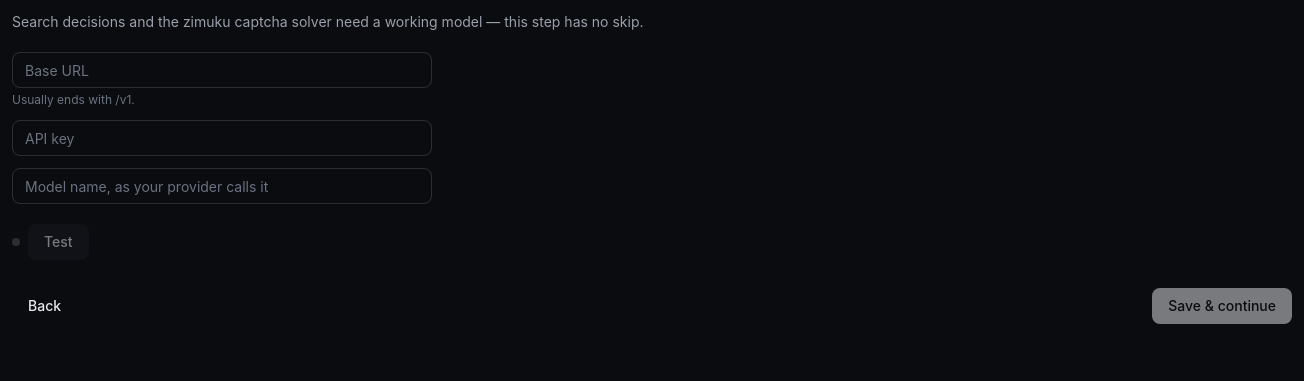
Test case: StepLlm › validate 端点自身挂了（reject）→ 第四态文案，不回显异常串（spec §7/§8）
Type "https://api.example.com/v1" into the field labelled "Base URL".
click(222, 70); type("https://api.example.com/v1")  # box [12,52,432,88]
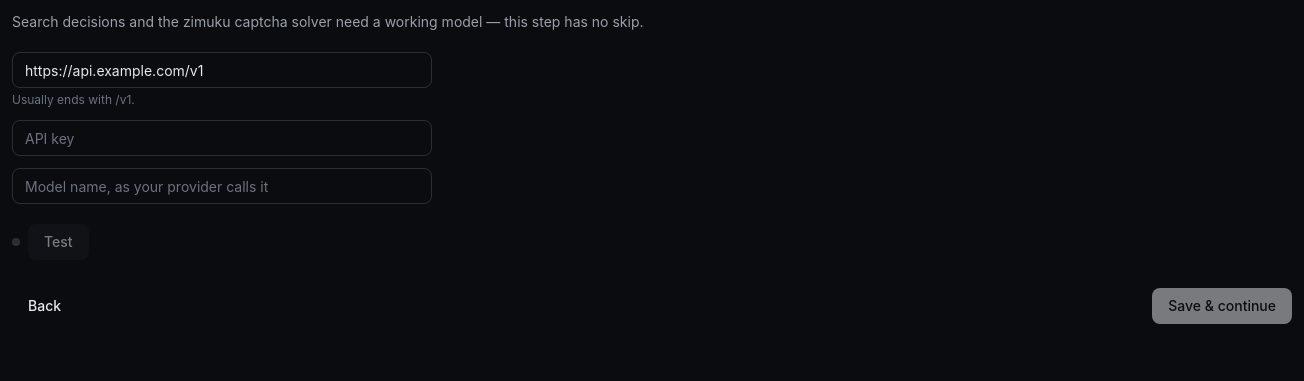
Type "sk-1" into the password field labelled "API key".
click(222, 138); type("sk-1")  # box [12,120,432,156]
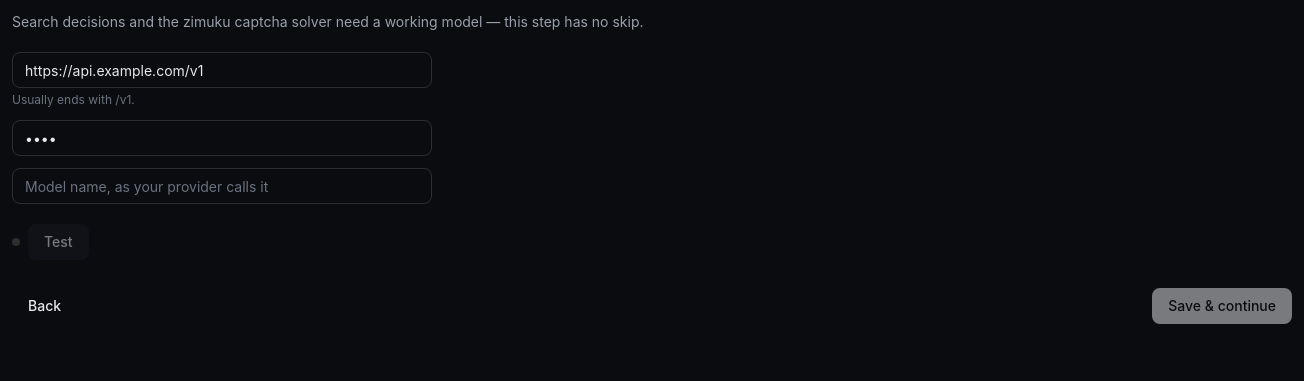
Type "m-1" into the field labelled "Model".
click(222, 186); type("m-1")  # box [12,168,432,204]
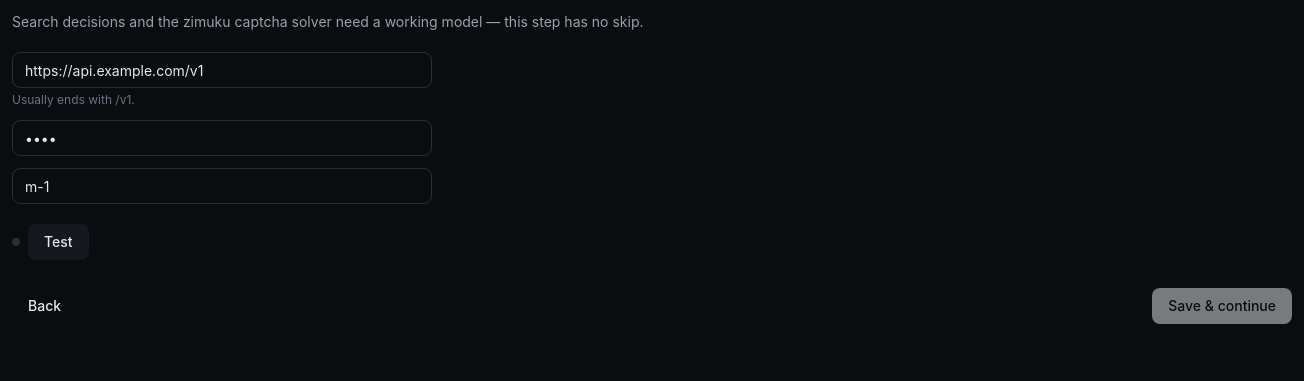
Click the button "Test".
click(58, 242)  # box [28,224,89,260]
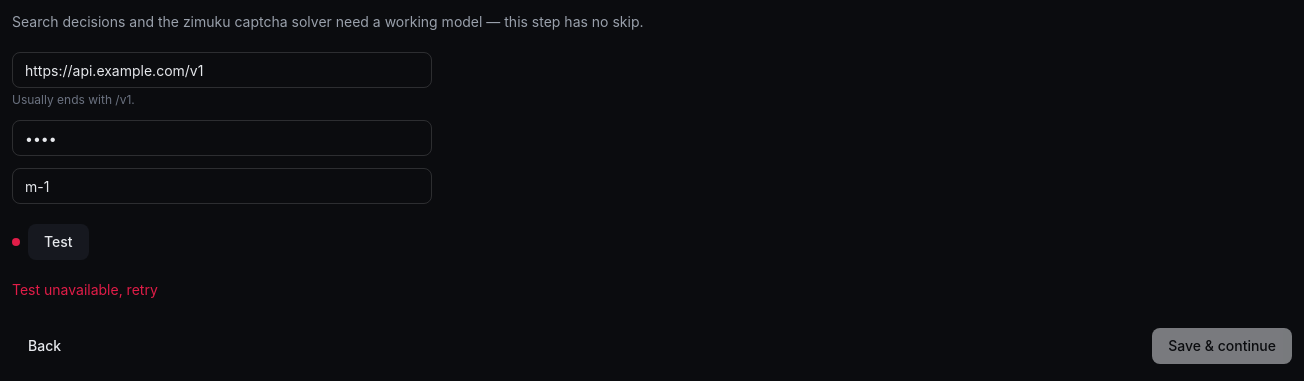
Expected: the button "Save & continue" is disabled, [1152,328,1292,364]
Now the text "Test unavailable, retry" is shown, box [12,281,158,298]
